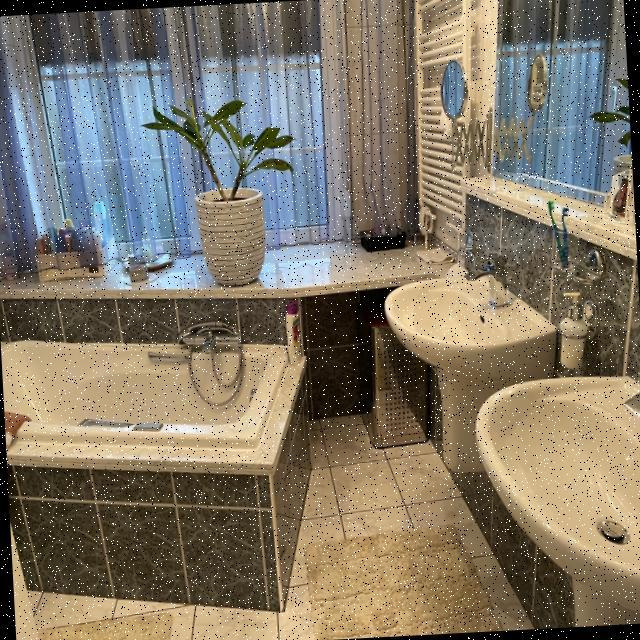bath: (0, 309, 314, 532)
designradiator: (404, 0, 498, 262)
wastafel: (380, 243, 640, 636)
